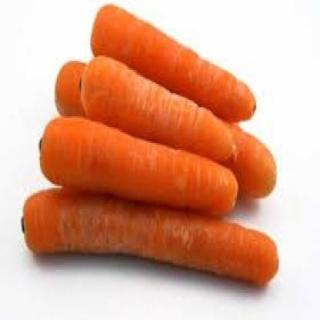Wortel: (82, 55, 276, 199), (20, 188, 283, 291), (90, 3, 259, 125), (39, 117, 238, 214)
